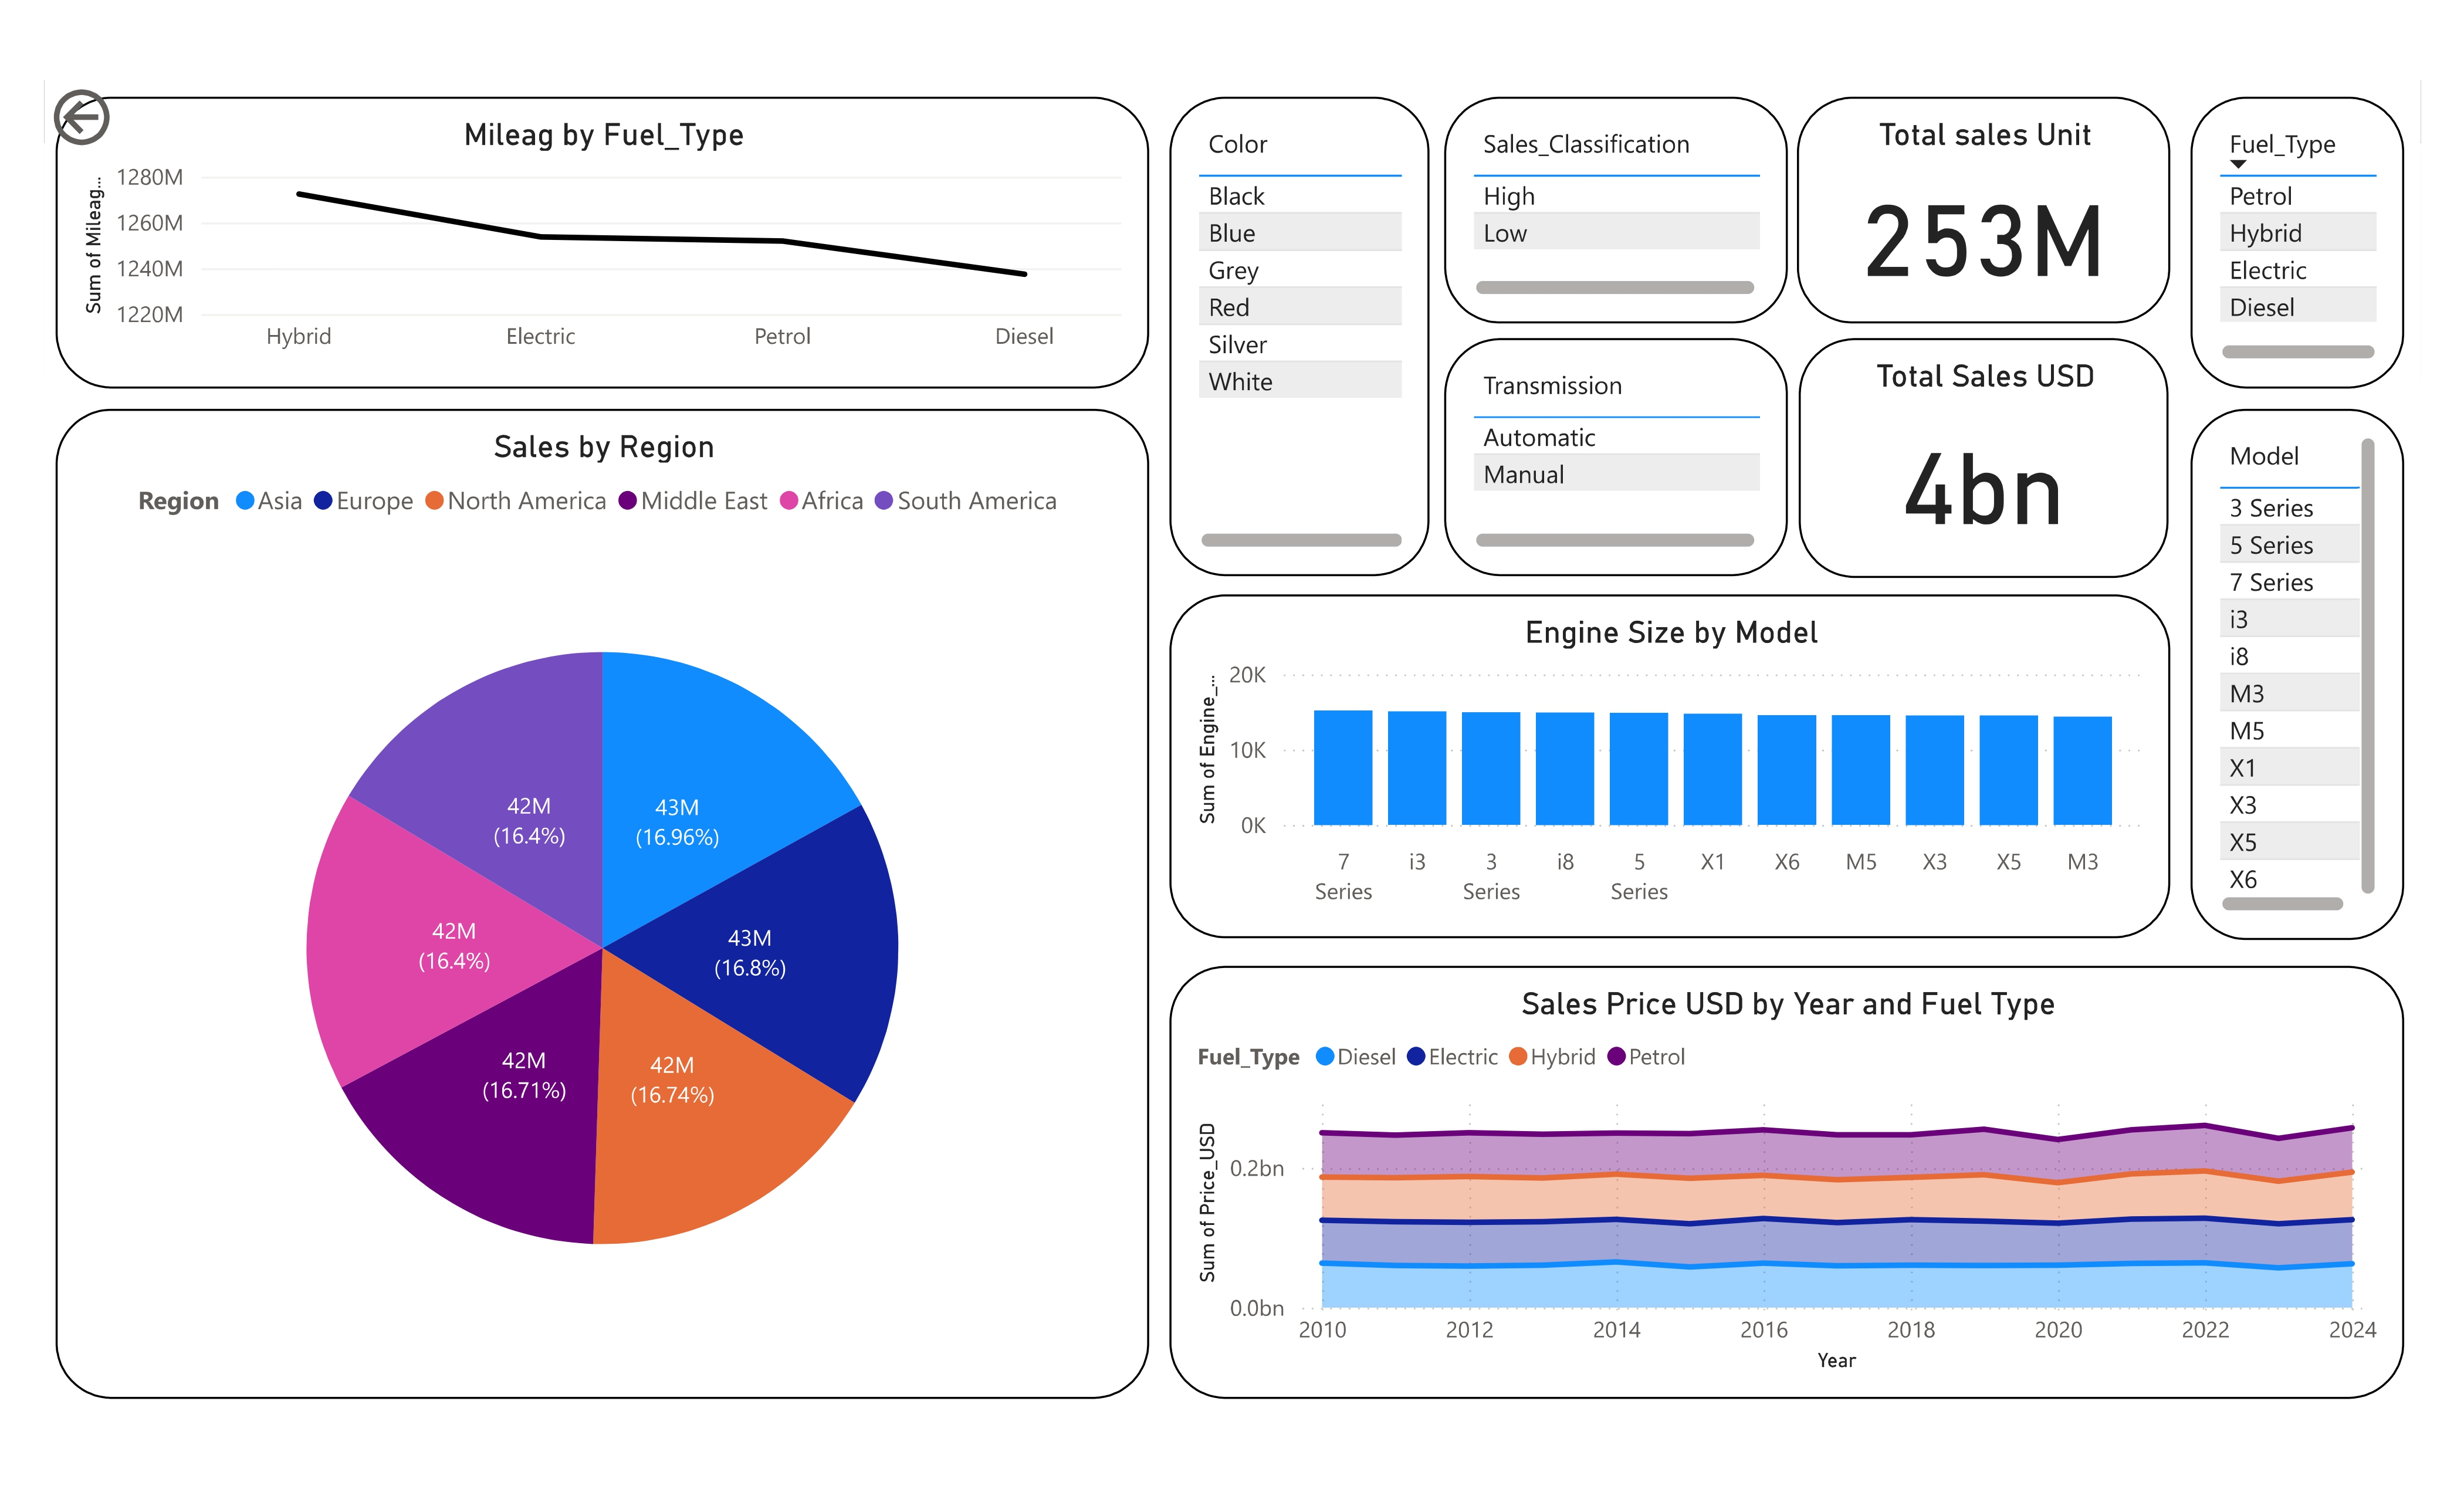

The page's visual inventory and layout, read from the dashboard file:
{"tool":"powerbi","page":{"name":"Page 1","canvas":[1280,720],"ordinal":0},"visuals":[{"type":"pieChart","title":"Sales by Region","fields":{"Category":["Table1.Region"],"Y":["Sum(Table1.Sales_Volume)"]},"box":[5.8,177,589.4,533],"z":0},{"type":"card","title":"Total sales Unit","fields":{"Values":["Sum(Table1.Sales_Volume)"]},"box":[944.4,8.8,200.4,122.6],"z":1000},{"type":"tableEx","fields":{"Values":["Table1.Fuel_Type"]},"box":[1156.5,8.8,114.8,157.6],"z":2000},{"type":"lineChart","title":"Mileag by Fuel_Type","fields":{"Category":["Table1.Fuel_Type"],"Y":["Sum(Table1.Mileage_KM)"]},"box":[5.8,8.8,589.4,157.6],"z":3000},{"type":"card","title":"Total Sales USD","fields":{"Values":["Sum(Table1.Price_USD)"]},"box":[944.9,138.7,199.5,128.8],"z":4000},{"type":"tableEx","fields":{"Values":["Table1.Model"]},"box":[1156.5,177,114.8,286],"z":5000},{"type":"tableEx","fields":{"Values":["Table1.Transmission"]},"box":[754.5,138.7,184.1,127.9],"z":6000},{"type":"actionButton","box":[0,0,100,40],"z":7000},{"type":"stackedAreaChart","title":"Sales Price USD by Year and Fuel Type","fields":{"Category":["BMW sales data (2010-2024) (1).Year"],"Y":["Sum(BMW sales data (2010-2024) (1).Price_USD)"],"Series":["BMW sales data (2010-2024) (1).Fuel_Type"]},"box":[606,476.6,665.3,233.4],"z":8000},{"type":"tableEx","fields":{"Values":["BMW sales data (2010-2024) (1).Sales_Classification"]},"box":[754.5,9.1,184.1,122.4],"z":9000},{"type":"clusteredColumnChart","title":"Engine Size by Model","fields":{"Y":["Sum(BMW sales data (2010-2024) (1).Engine_Size_L)"],"Category":["BMW sales data (2010-2024) (1).Model"]},"box":[605.7,277.5,539.5,185],"z":10000},{"type":"tableEx","fields":{"Values":["BMW sales data (2010-2024) (1).Color"]},"box":[605.7,9.1,140.6,257.5],"z":11000}]}

Visuals, with their boxes in screenshot pixels (x1, y1, x2, y2):
"Sales by Region" pieChart: <bbox>75, 408, 1154, 1383</bbox>
"Total sales Unit" card: <bbox>1793, 100, 2160, 324</bbox>
tableEx - Table1.Fuel_Type: <bbox>2182, 100, 2392, 388</bbox>
"Mileag by Fuel_Type" lineChart: <bbox>75, 100, 1154, 388</bbox>
"Total Sales USD" card: <bbox>1795, 337, 2160, 573</bbox>
tableEx - Table1.Model: <bbox>2182, 408, 2392, 931</bbox>
tableEx - Table1.Transmission: <bbox>1446, 337, 1783, 571</bbox>
actionButton: <bbox>64, 83, 247, 157</bbox>
"Sales Price USD by Year and Fuel Type" stackedAreaChart: <bbox>1174, 956, 2392, 1383</bbox>
tableEx - BMW sales data (2010-2024) (1).Sales_Classification: <bbox>1446, 100, 1783, 324</bbox>
"Engine Size by Model" clusteredColumnChart: <bbox>1173, 591, 2161, 930</bbox>
tableEx - BMW sales data (2010-2024) (1).Color: <bbox>1173, 100, 1431, 571</bbox>
